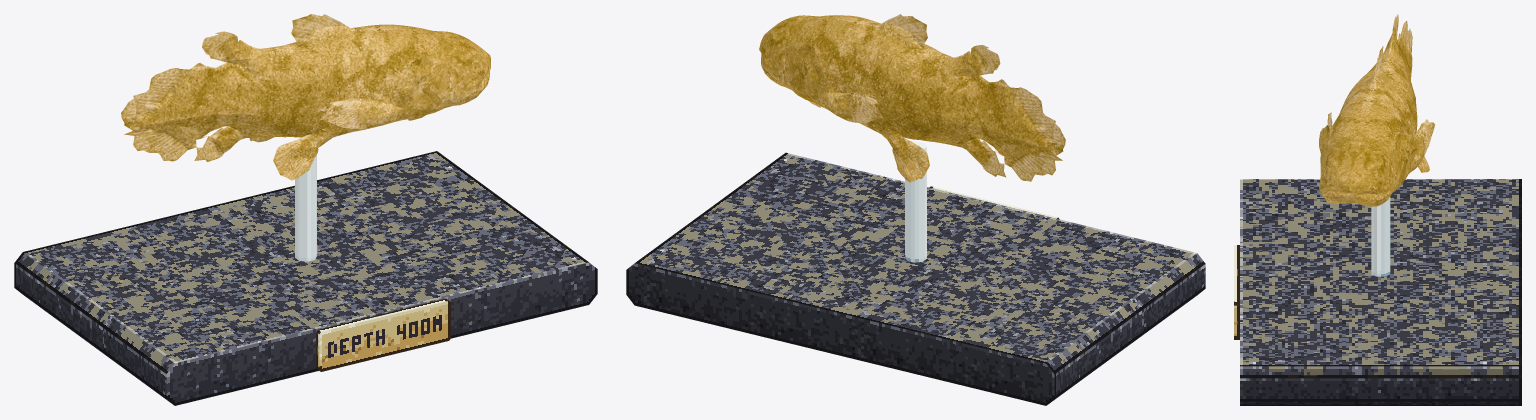
Rendered from coela.glb.
The picture shows the model from 3 angles, left to right: view 1: azimuth 30°, elevation 25°; view 2: azimuth 150°, elevation 25°; view 3: azimuth 270°, elevation 25°; orthographic projection. The views are drawn at different scales.
Parts seen in each view (by area): view 1: base, model_fish, plate, rod; view 2: base, model_fish, rod; view 3: base, model_fish, rod, plate.
Boxes of the visible parts, box(x1,y1,x2,y2) form: base: box(14, 151, 597, 405); model_fish: box(121, 14, 490, 180); plate: box(316, 298, 450, 371); rod: box(295, 155, 316, 261); base: box(626, 152, 1205, 405); model_fish: box(759, 14, 1065, 182); rod: box(905, 141, 926, 262); base: box(1240, 179, 1521, 405); model_fish: box(1319, 14, 1434, 206); rod: box(1371, 196, 1390, 276); plate: box(1234, 245, 1239, 339).
Size of the model in its own units: 36 by 22.75 by 22.45.
Materials: 2 (2 with a texture image).
